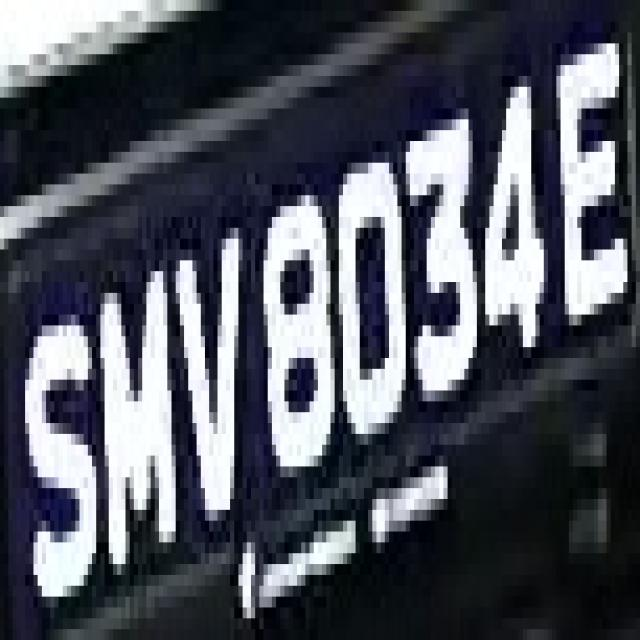0: (322, 120, 418, 478)
3: (393, 108, 481, 434)
4: (456, 87, 556, 390)
8: (246, 174, 334, 499)
E: (544, 22, 632, 336)
M: (92, 239, 180, 575)
S: (8, 271, 92, 629)
V: (163, 217, 259, 553)
